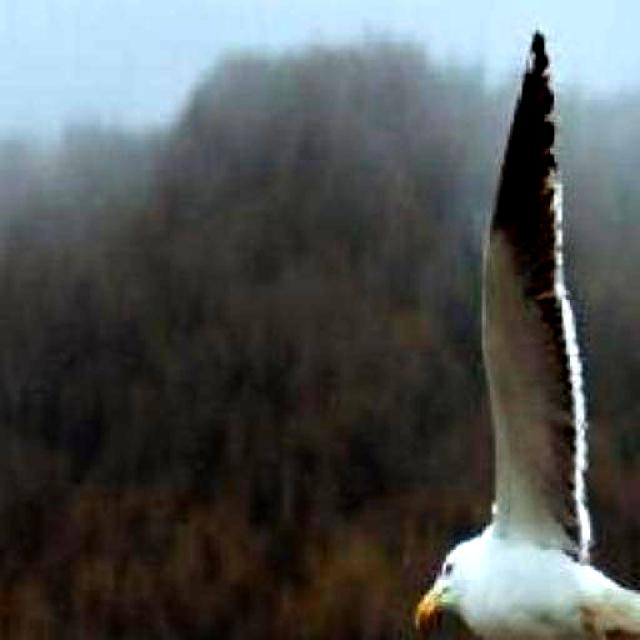airplane: (418, 25, 640, 640)
